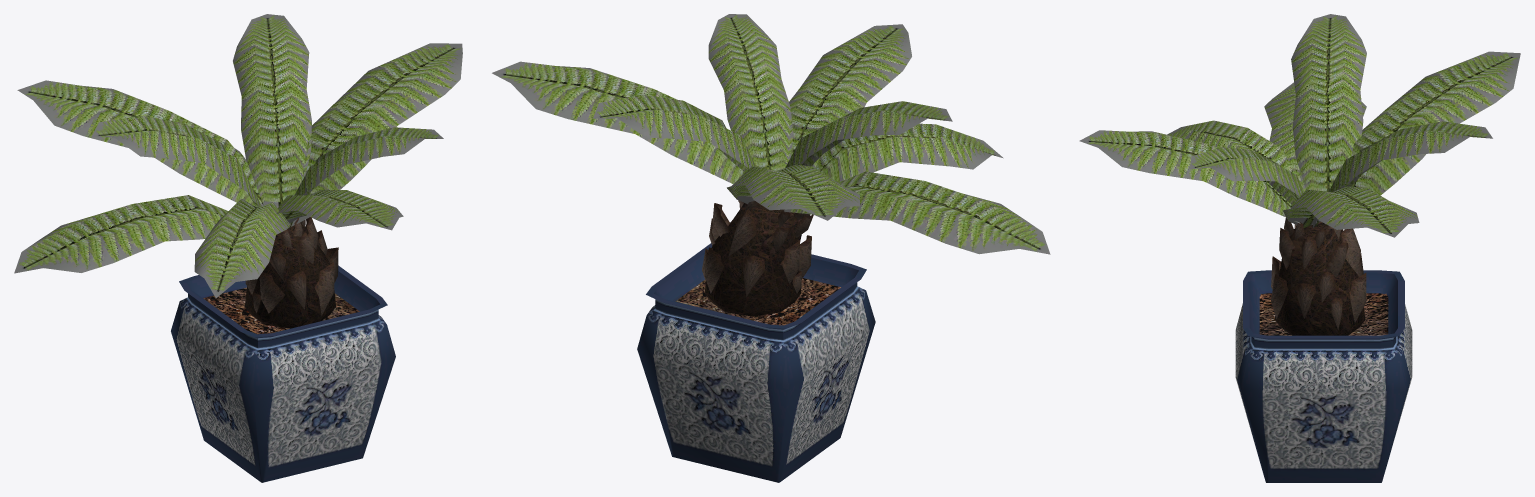
Rendered from plant_pot02.DAE.
The picture shows the model from 3 angles, left to right: view 1: azimuth 30°, elevation 25°; view 2: azimuth 150°, elevation 25°; view 3: azimuth 270°, elevation 25°; orthographic projection. The views are drawn at different scales.
Visible parts, largest first — view 1: Box001; view 2: Box001; view 3: Box001.
Boxes of the visible parts, left/top/right/bottom form: Box001: left=14, top=14, right=462, bottom=482; Box001: left=492, top=14, right=1050, bottom=482; Box001: left=1079, top=14, right=1520, bottom=482.
Bounding box in the file's own units: 1.45 × 1.15 × 1.03.
